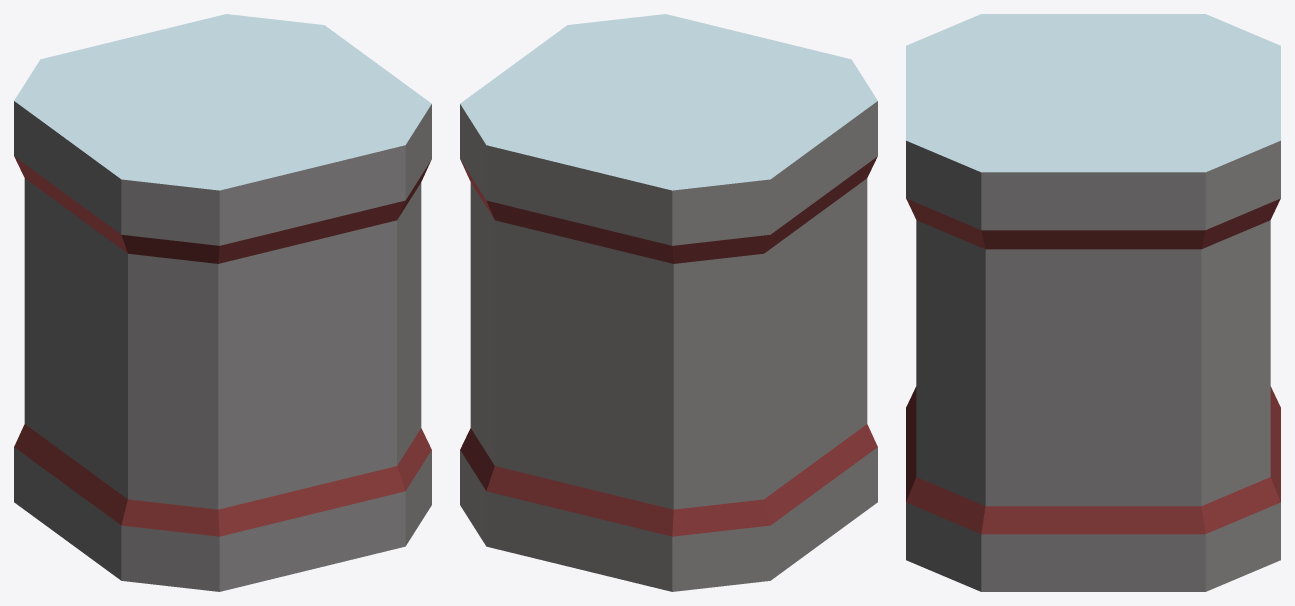
File: SM_Bld_Knights_Castle_05_Snow.fbx
3 renders of one model, left to right at view 1: azimuth 30°, elevation 25°; view 2: azimuth 150°, elevation 25°; view 3: azimuth 270°, elevation 25°, orthographic. The views are drawn at different scales.
Parts seen in each view (by area): view 1: SM_Bld_Knights_Castle_05_Snow; view 2: SM_Bld_Knights_Castle_05_Snow; view 3: SM_Bld_Knights_Castle_05_Snow.
Boxes of the visible parts, <box> form: SM_Bld_Knights_Castle_05_Snow: <box>14,14,431,591</box>; SM_Bld_Knights_Castle_05_Snow: <box>460,14,877,591</box>; SM_Bld_Knights_Castle_05_Snow: <box>906,14,1280,591</box>.
Bounding box in the file's own units: 70.95 × 87.64 × 70.95.
1 material, 1 textured.
